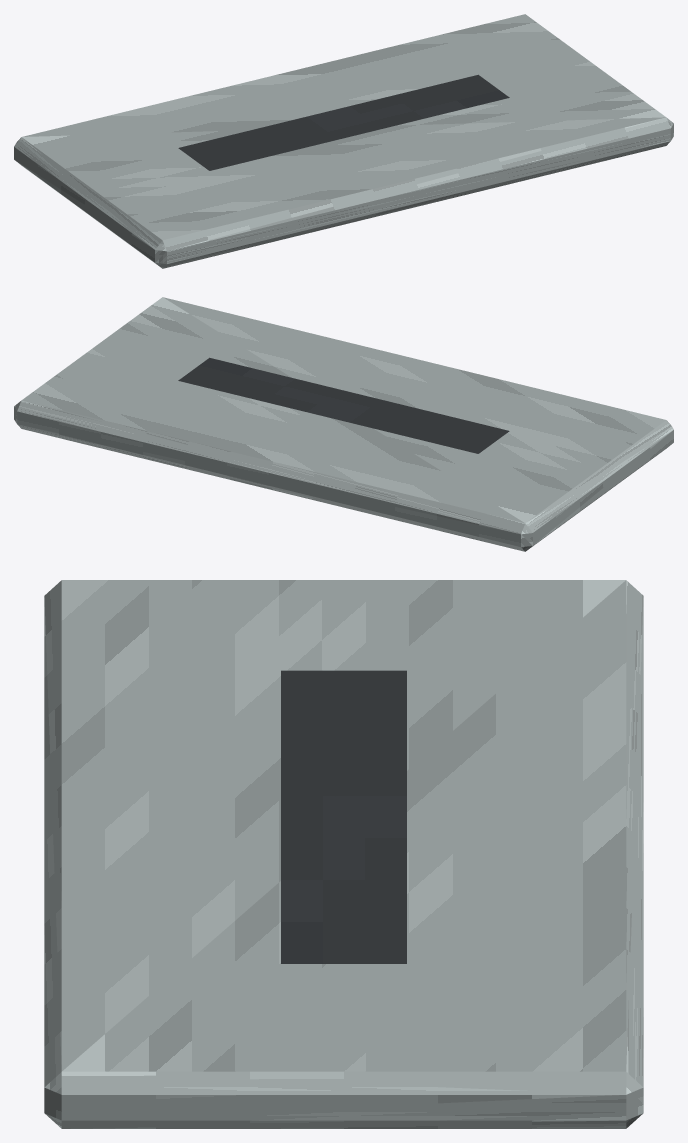
The model's file is razor_blade.glb.
The picture shows the model from 3 angles, top to bottom: view 1: azimuth 30°, elevation 25°; view 2: azimuth 150°, elevation 25°; view 3: azimuth 270°, elevation 25°; orthographic projection. The views are drawn at different scales.
Visible parts, largest first — view 1: block_flat blade or board, block_centre slot; view 2: block_flat blade or board, block_centre slot; view 3: block_flat blade or board, block_centre slot.
Boxes of the visible parts, x1,y1,x2,y2 form: block_flat blade or board: [14, 14, 673, 268]; block_centre slot: [178, 74, 509, 170]; block_flat blade or board: [14, 297, 673, 551]; block_centre slot: [178, 357, 509, 453]; block_flat blade or board: [44, 580, 643, 1128]; block_centre slot: [281, 670, 406, 963].
Bounding box in the file's own units: 0.038 × 0.0023 × 0.019.
Materials: 1 (1 with a texture image).
